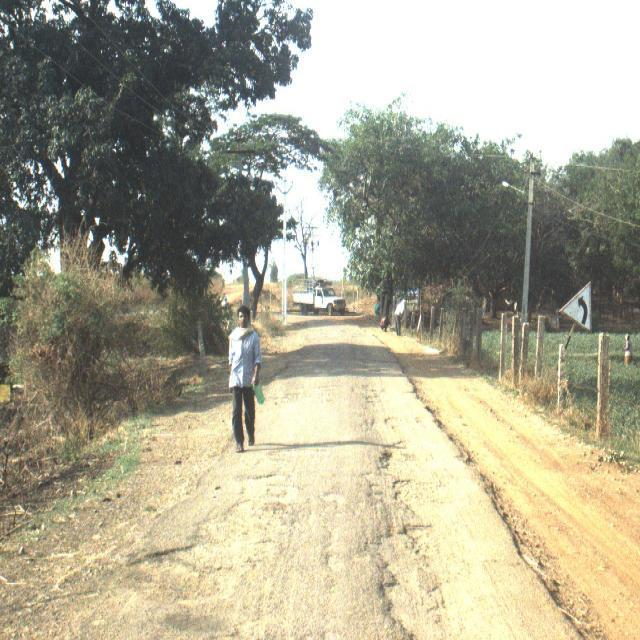Pothole: (240, 475, 303, 516)
